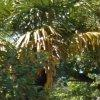Palm tree: (22, 3, 81, 88)
